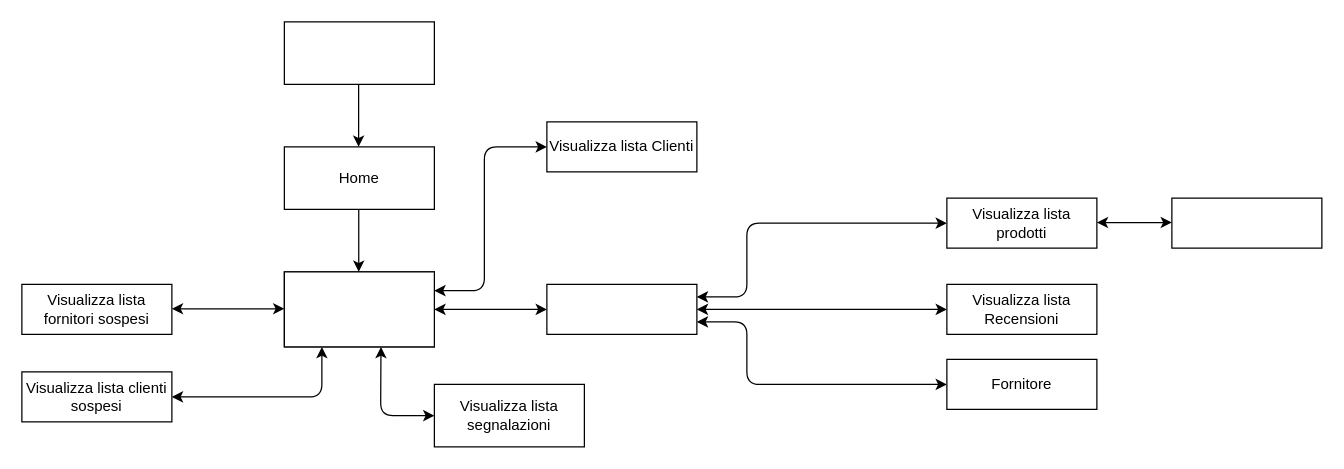
This 1344x469 diagram has some shape labels left out. The shapes that lost their labels are listed below. From the top down, each one's centre as x and y in pixels, then its label:
At [358,52]: "Login".
At [1246,222]: "Prodotto".
At [358,309]: "Area Personale Admin".
At [621,308]: "Visualizza lista fornitori".
